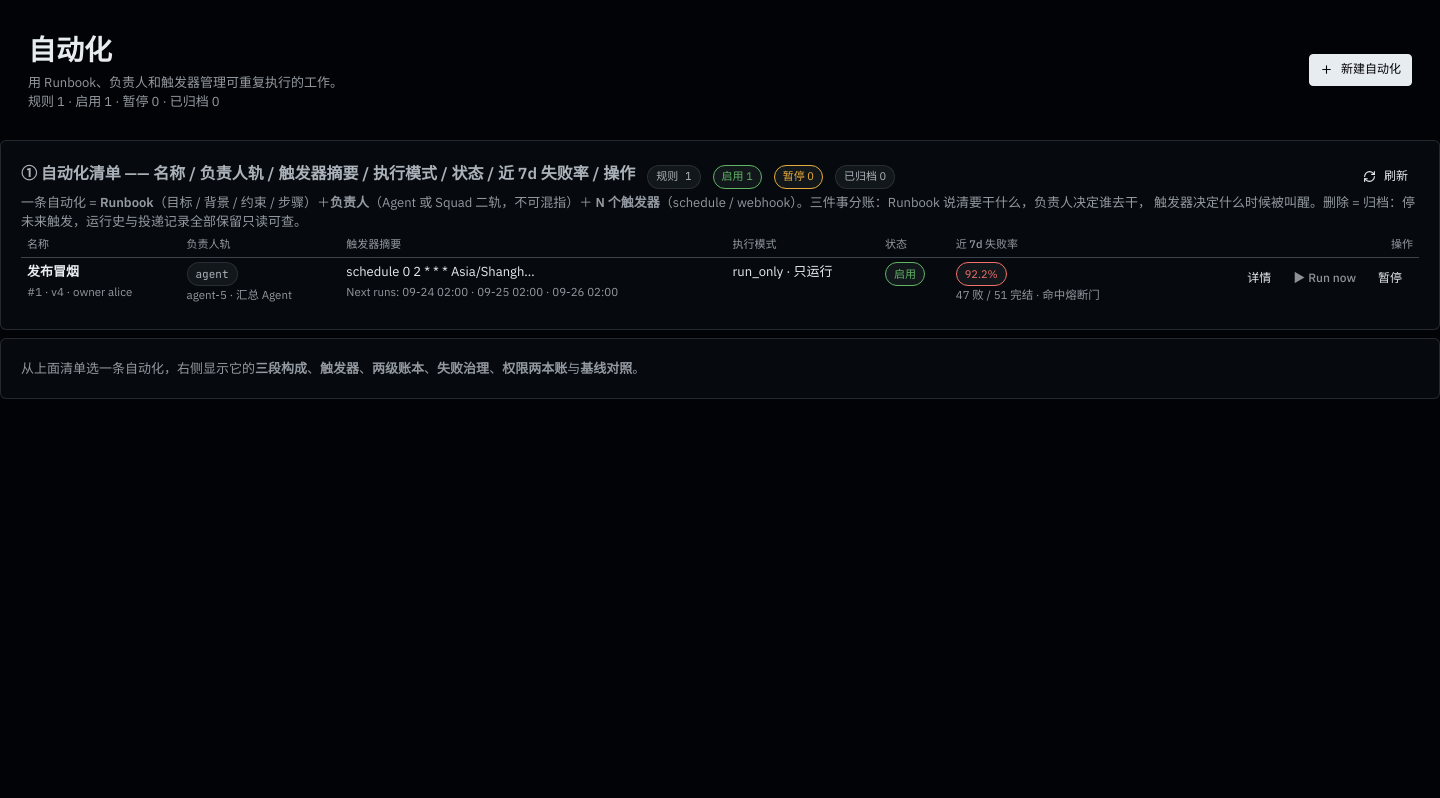
Test: 自动化中心 ② 三段构成 › 写失败时后端 detail 原样出现在 alert 里
The image size is (1440, 798).
Expected: the text "发布冒烟" is shown, [27, 263, 79, 280]
Click the button with aria-label "选中 发布冒烟" at (1259, 278), box [1236, 262, 1282, 294]
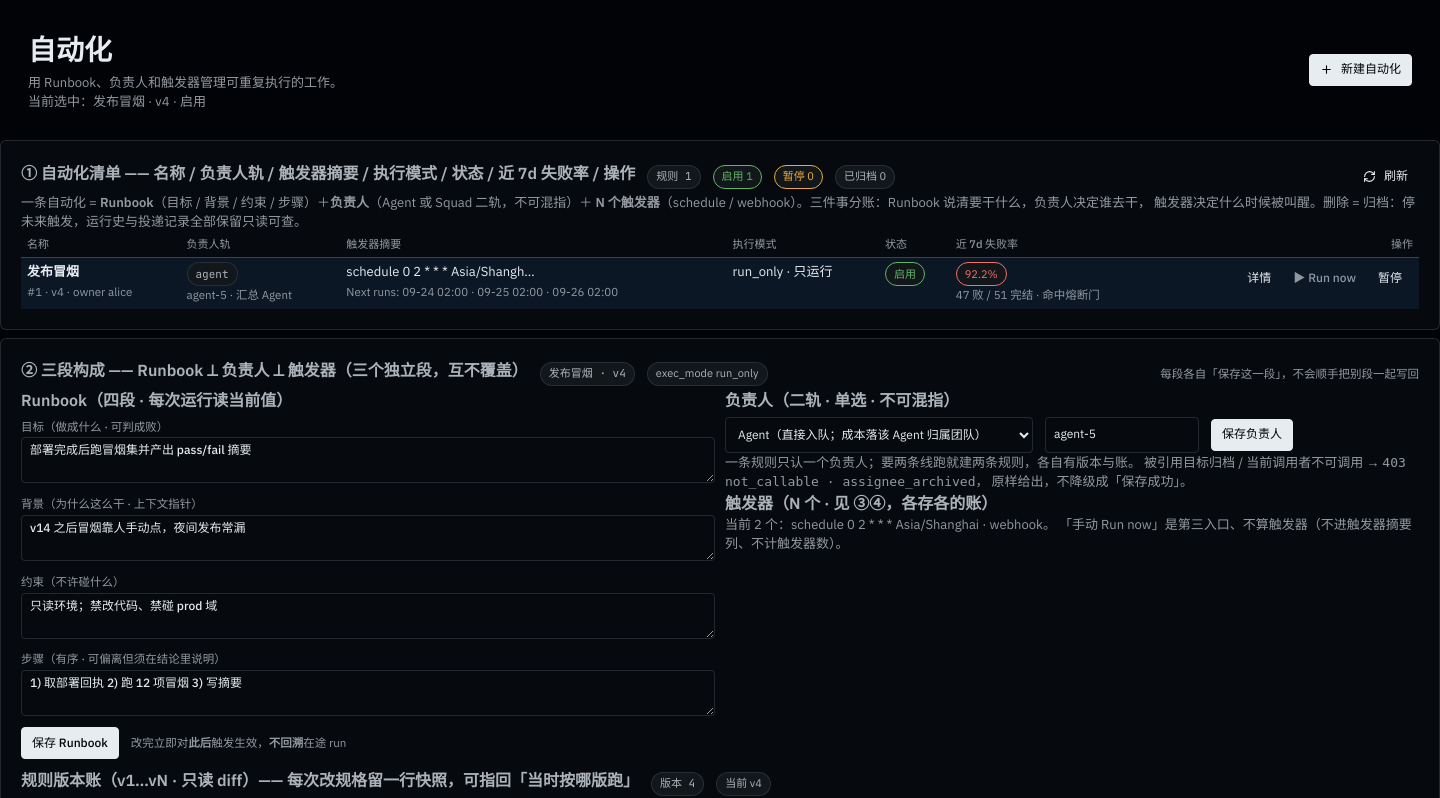
Result: the text "② 三段构成 —— Runbook ⟂ 负责人 ⟂ 触发器（三个独立段，互不覆盖）" is shown at [21, 359, 528, 381]
Click the button "保存 Runbook" at (70, 743), box [21, 727, 119, 759]
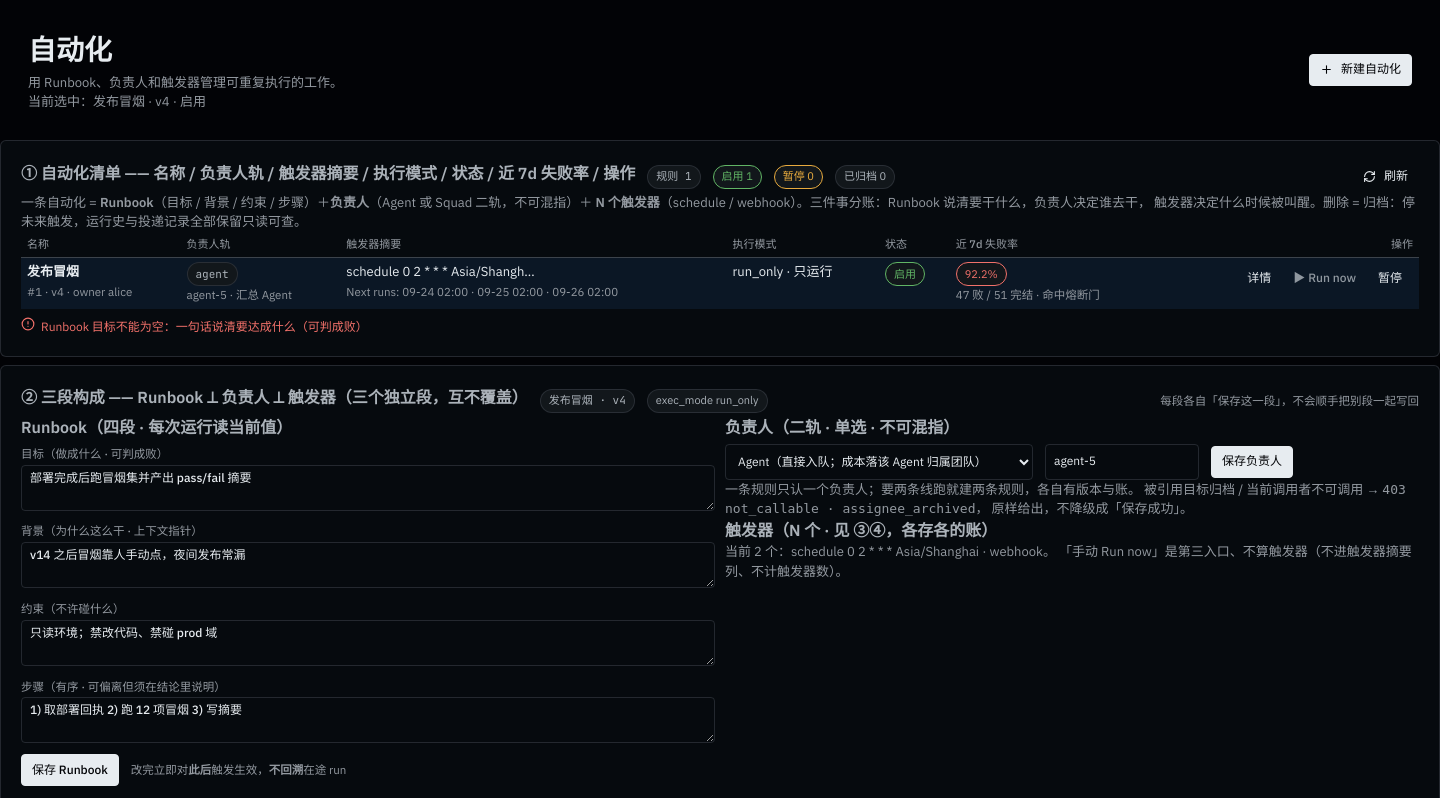
Result: the message reads "Runbook 目标不能为空：一句话说清要达成什么（可判成败）" at [41, 319, 368, 334]
